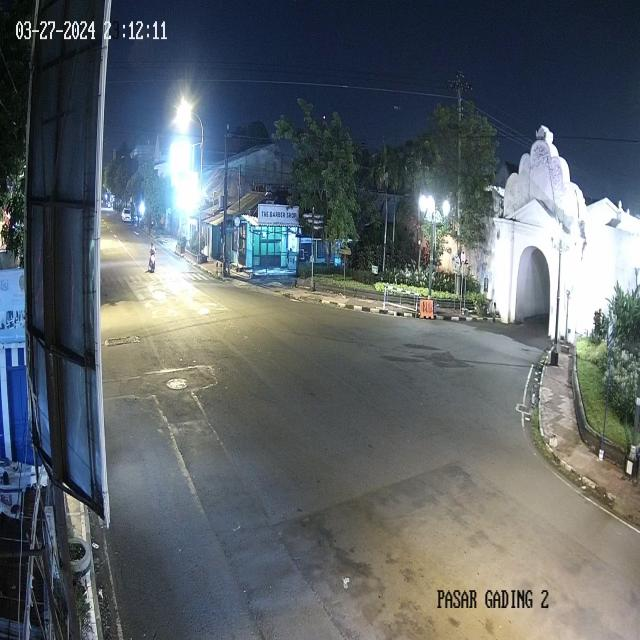car: (120, 205, 132, 225)
motorcycle: (146, 241, 158, 275)
